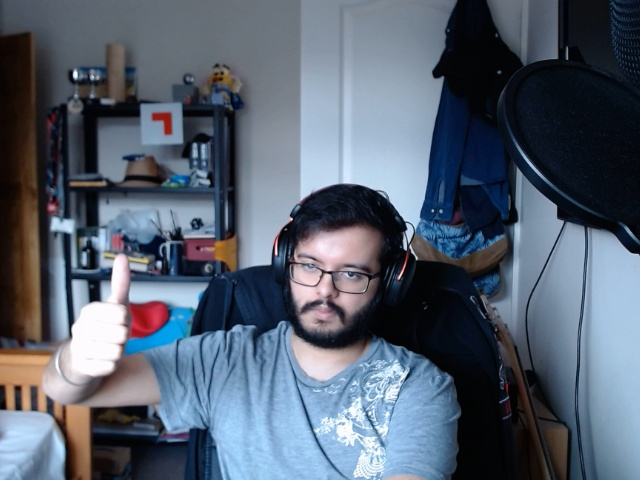Thumbs up: (64, 243, 142, 382)
